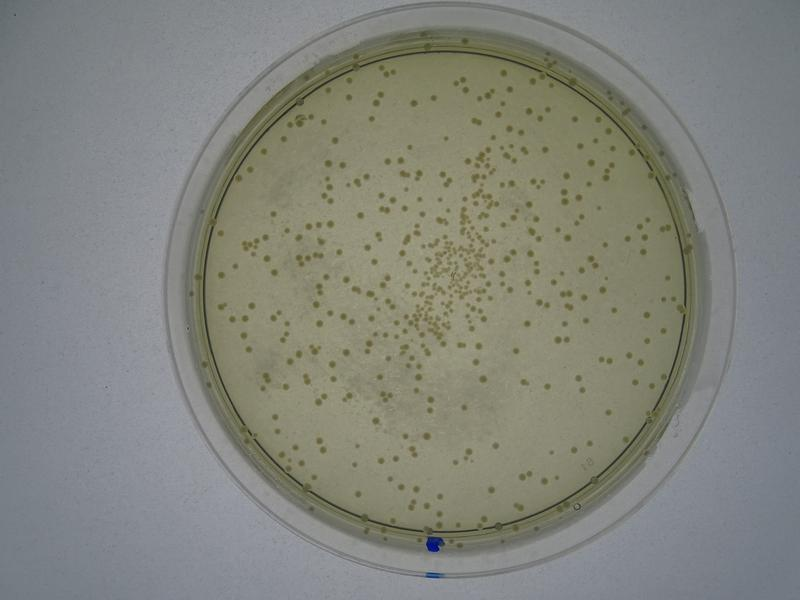colony: (508, 344, 523, 358), (641, 308, 653, 322), (490, 440, 506, 450), (409, 96, 420, 110), (356, 209, 368, 221), (422, 431, 434, 443), (520, 318, 533, 329), (541, 381, 554, 392), (326, 358, 338, 369), (268, 209, 279, 221), (561, 170, 572, 181), (269, 268, 279, 280), (369, 415, 380, 425), (323, 158, 333, 168), (247, 301, 258, 310), (403, 142, 414, 151), (470, 356, 480, 365), (478, 374, 488, 383), (431, 93, 439, 104), (365, 116, 377, 123), (332, 135, 340, 145)
